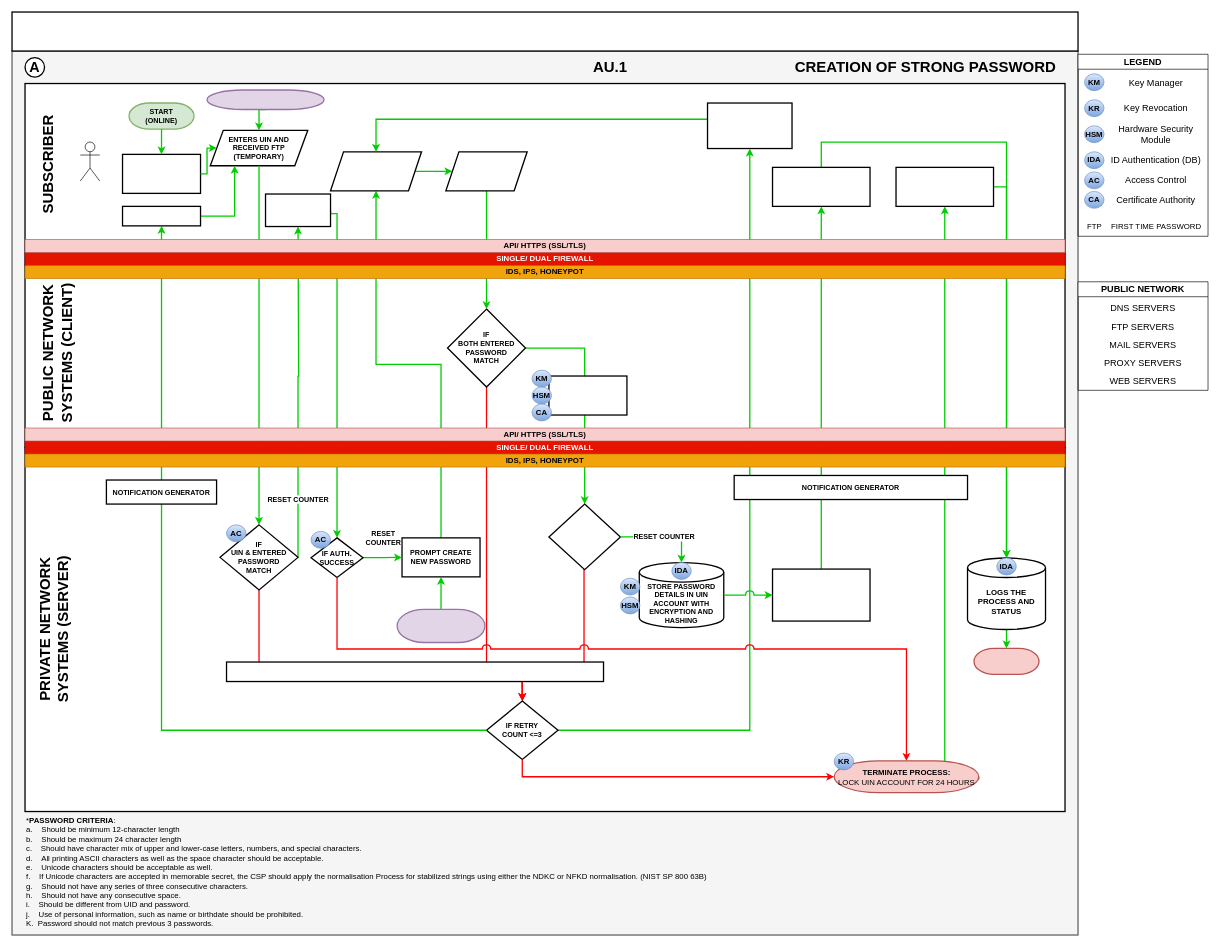
Image size: 1219x952. Some labels were removed from this diagram. Here are the shapes that lost their labels. From the top down, the centre of each, then its label:
pixel 544 31: Purpose: This SOP g uides users in creating a strong and secure password.
pixel 265 99: CONTINUE: NEW PASSWORD WITH FTP
pixel 749 125: RECEIVES PASSWORD CHANGE FAILURE NOTIFICATION ON EMAIL/PHONE WITH TIMESTAMP
pixel 90 161: USER
pixel 161 173: VISIT DID PORTAL LOGIN PAGE
pixel 376 171: ENTERS DESIRED PASSWORD WITH SPECIFIED CRITERIA
pixel 486 171: RE-ENTERS THE SAME DESIRED PASSWORD
pixel 821 186: RECEIVES PASSWORD CHANGED SUCCESSFUL NOTIFICATION ON EMAIL/PHONE
pixel 944 186: RECEIVES PASSWORD CHANGED FAILURE NOTIFICATION ON EMAIL/PHONE
pixel 161 215: RETRY LOGIN
pixel 298 210: AUTHENTICATE USING OTP B.2.4.1.B
pixel 587 395: MASK & ENCRYPT PASSWORD FOR CREATION
pixel 584 536: IF PASSWORD CRITERIA* MET
pixel 821 594: SEND PASSWORD CHANGED NOTIFICATION ON EMAIL/PHONE WITH TIMESTAMP
pixel 440 625: CONTINUE: CREATE (WITHOUT FTP) UPDATE PASS.
pixel 415 671: EXCEPTION AND ERROR HANDLING (COUNTER)
pixel 1006 661: END
